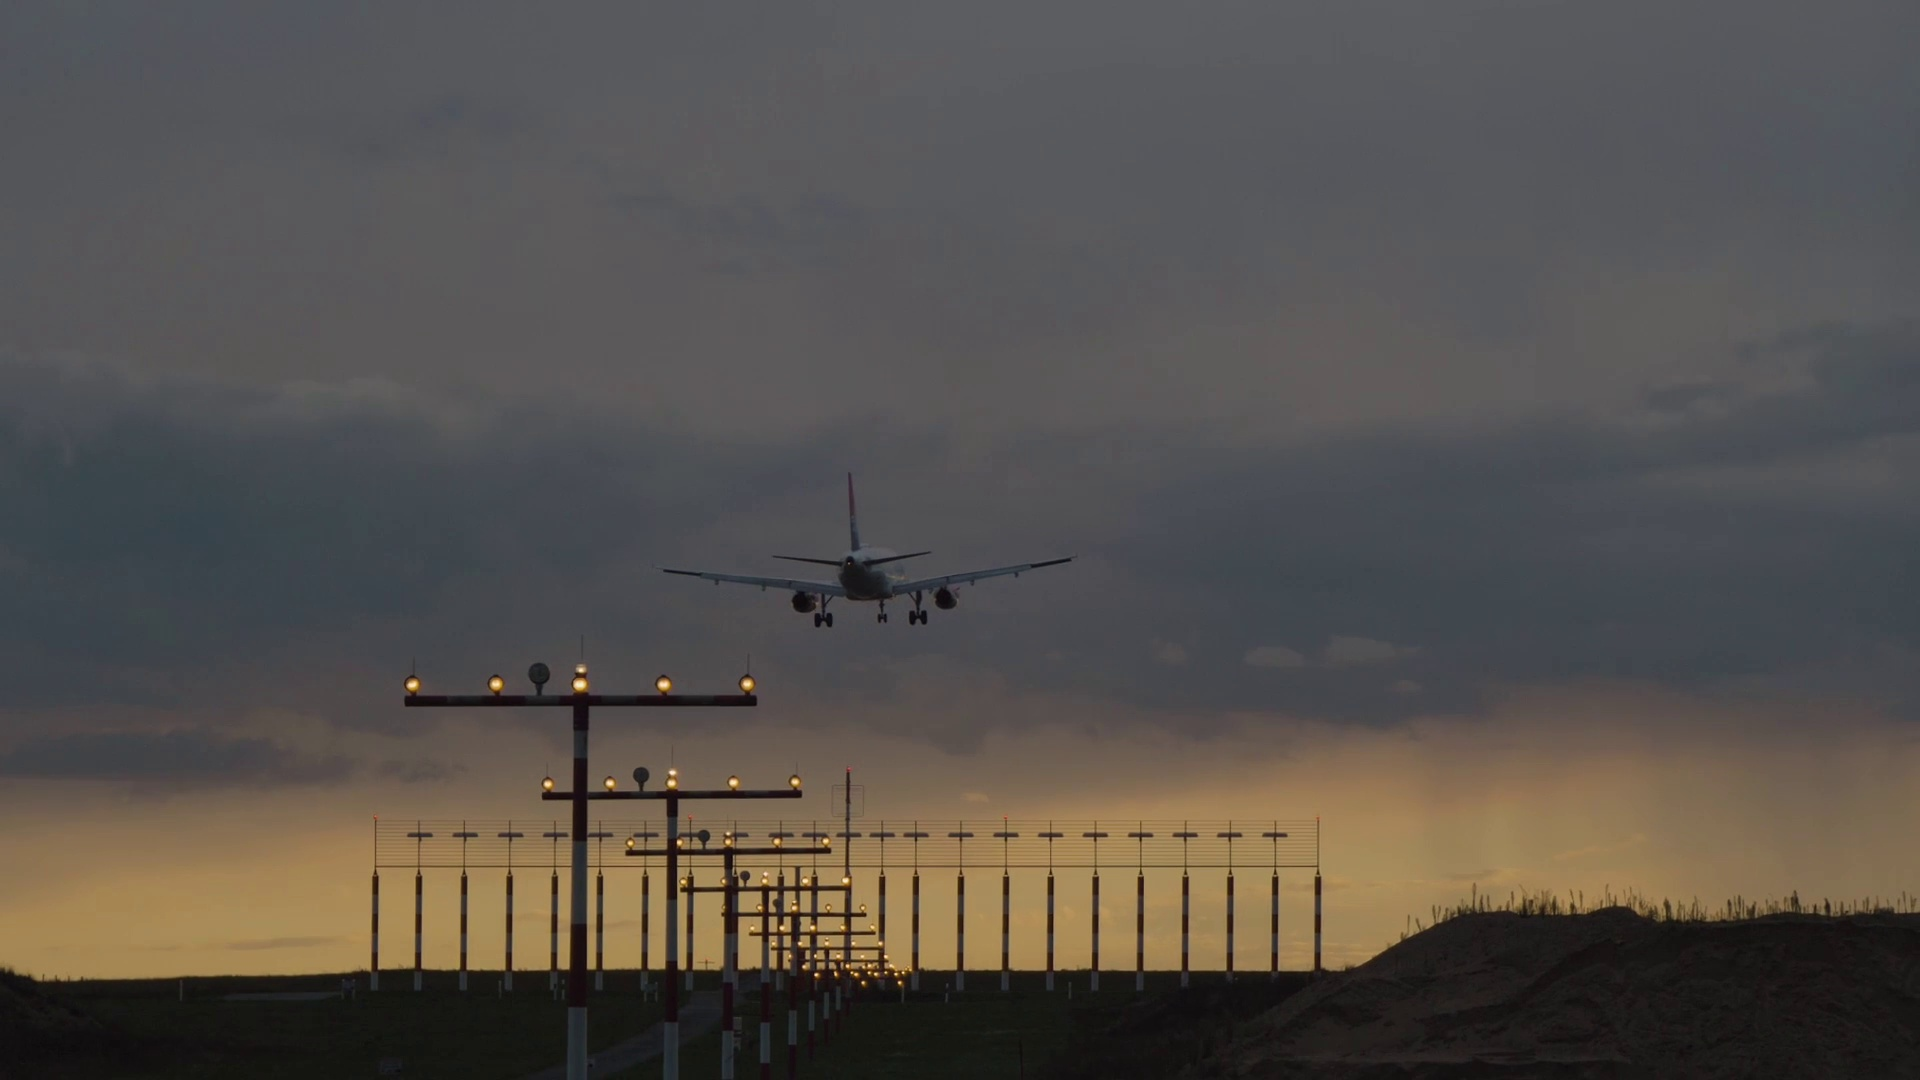plane: (655, 473, 1080, 626)
